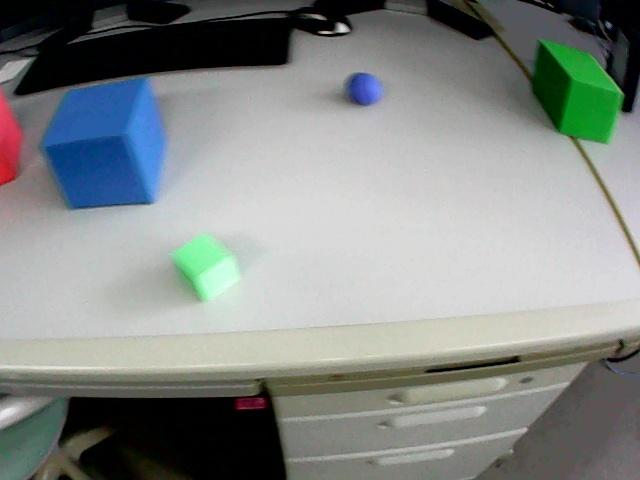blue_block: (42, 78, 165, 207)
red_block: (0, 91, 22, 184)
